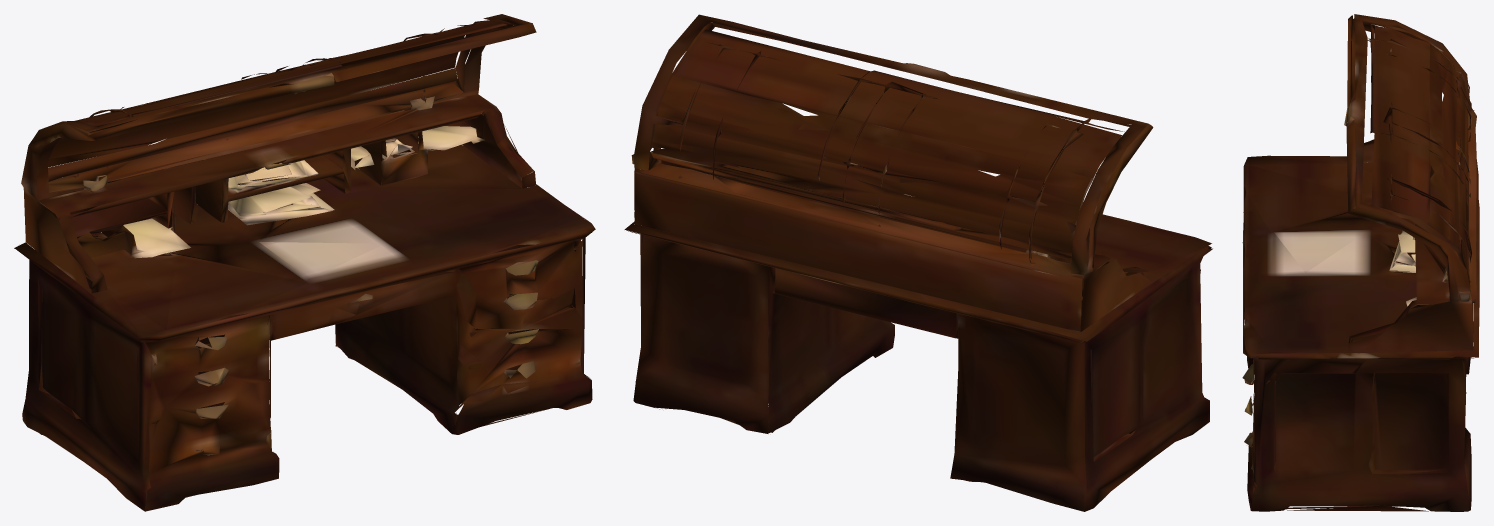
The model's file is escritorio_cortina.movil.glb.
The picture shows the model from 3 angles, left to right: view 1: azimuth 30°, elevation 25°; view 2: azimuth 150°, elevation 25°; view 3: azimuth 270°, elevation 25°; orthographic projection. The views are drawn at different scales.
Visible parts, largest first — view 1: geometry_0; view 2: geometry_0; view 3: geometry_0.
Boxes of the visible parts, <box> form: geometry_0: <box>14,14,595,511</box>; geometry_0: <box>624,14,1212,511</box>; geometry_0: <box>1242,14,1479,511</box>.
Bounding box in the file's own units: 1.7 × 1.2 × 0.85.
1 material, 1 textured.
